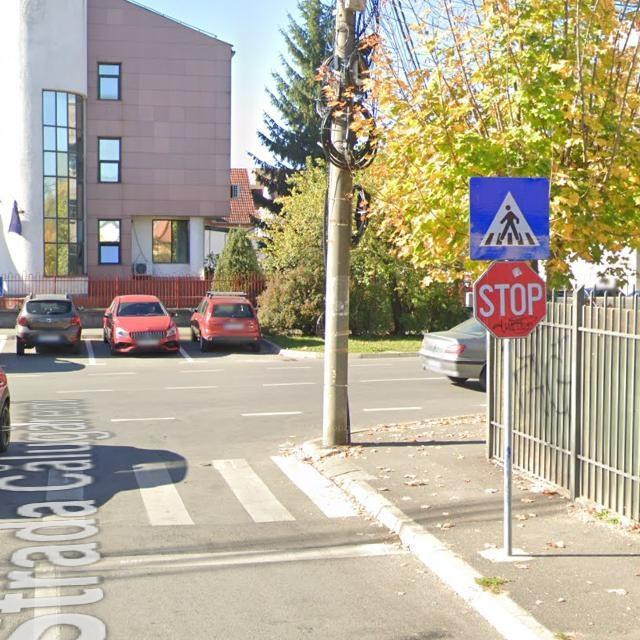info_crosswalk: (469, 174, 552, 261)
prio_stop: (473, 260, 550, 335)
